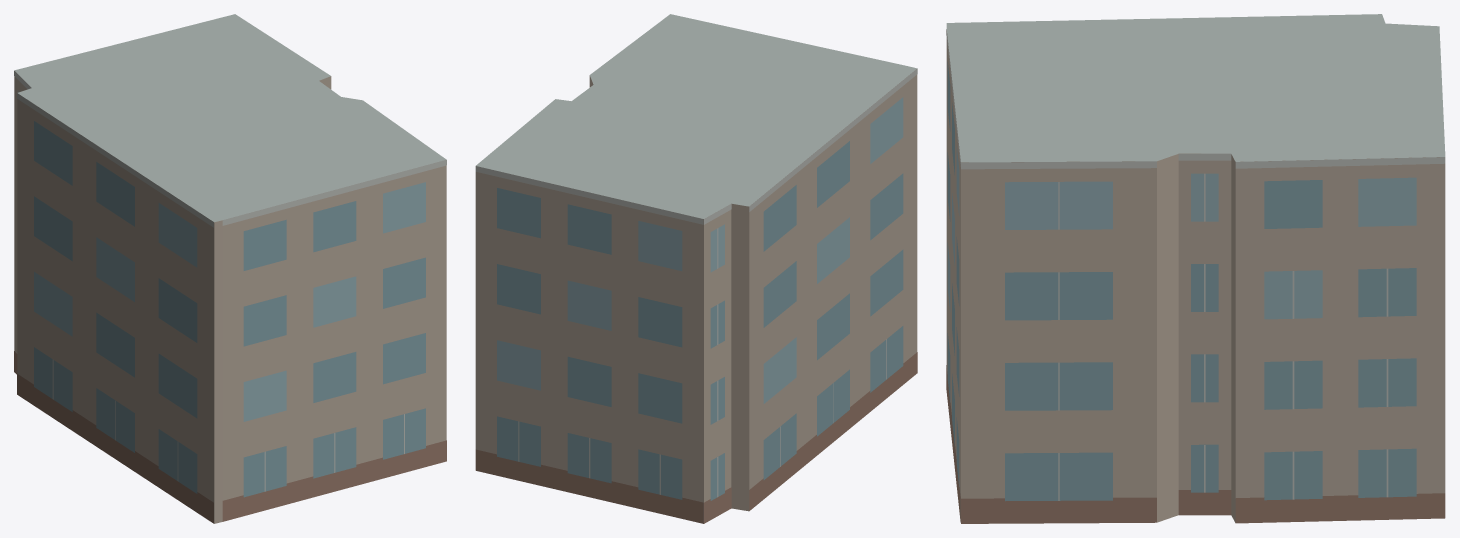
The model's file is survey-upis-32490413.glb.
3 renders of one model, left to right at view 1: azimuth 30°, elevation 25°; view 2: azimuth 150°, elevation 25°; view 3: azimuth 270°, elevation 25°, orthographic. The views are drawn at different scales.
Parts seen in each view (by area): view 1: survey-upis-32490413.tmp; view 2: survey-upis-32490413.tmp; view 3: survey-upis-32490413.tmp.
Boxes of the visible parts, <box> form: survey-upis-32490413.tmp: <box>14,14,446,523</box>; survey-upis-32490413.tmp: <box>475,14,917,523</box>; survey-upis-32490413.tmp: <box>946,14,1445,523</box>.
Bounding box in the file's own units: 11.31 × 12.83 × 16.06.
